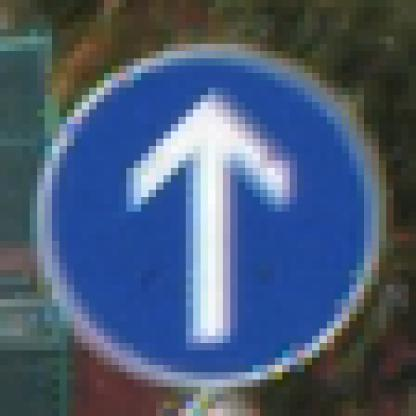AheadOnly: (38, 45, 380, 380)
